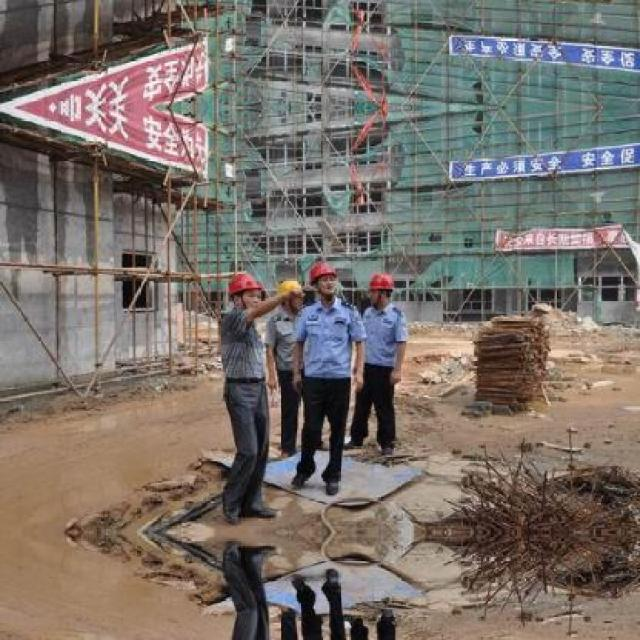helmet: (226, 267, 263, 311), (276, 273, 306, 312), (312, 258, 338, 302), (366, 268, 394, 307)
